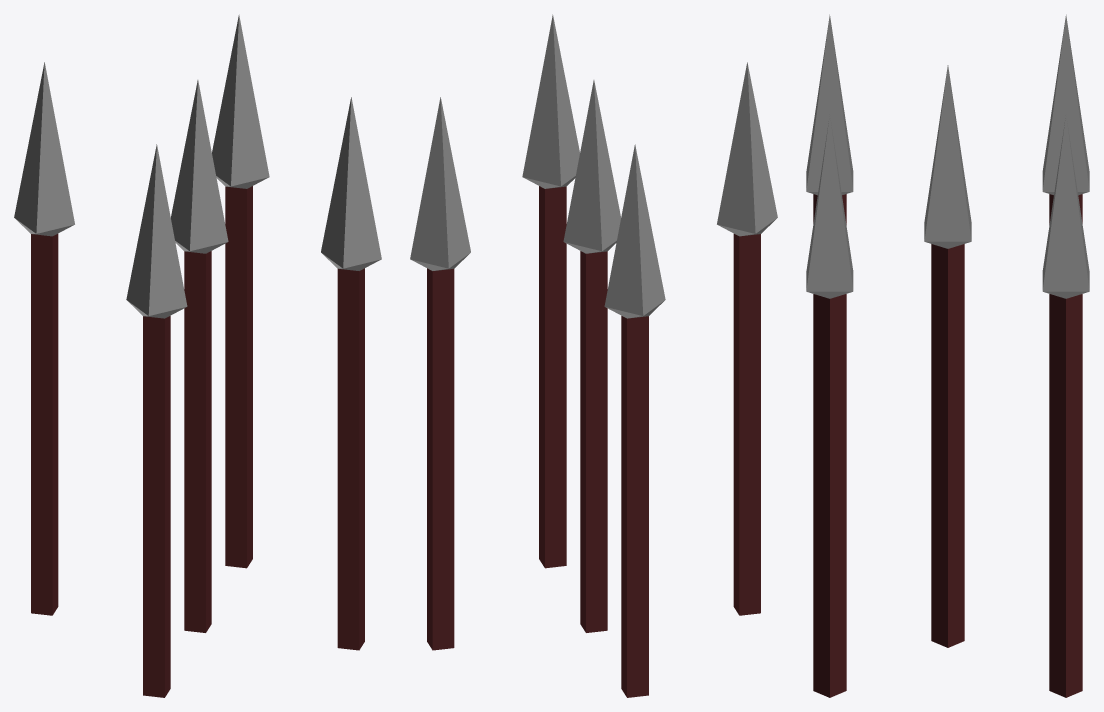
Rendered from winter_trap_1.fbx.
The picture shows the model from 3 angles, left to right: view 1: azimuth 30°, elevation 25°; view 2: azimuth 150°, elevation 25°; view 3: azimuth 270°, elevation 25°; orthographic projection. The views are drawn at different scales.
Parts seen in each view (by area): view 1: winter_trap_spears; view 2: winter_trap_spears; view 3: winter_trap_spears.
Part boxes in pixels (x1=…): winter_trap_spears: x1=14, y1=14, x2=381, y2=697; winter_trap_spears: x1=410, y1=14, x2=777, y2=697; winter_trap_spears: x1=806, y1=14, x2=1089, y2=697.
Size of the model in its own units: 2.4 by 2.4 by 5.39.
